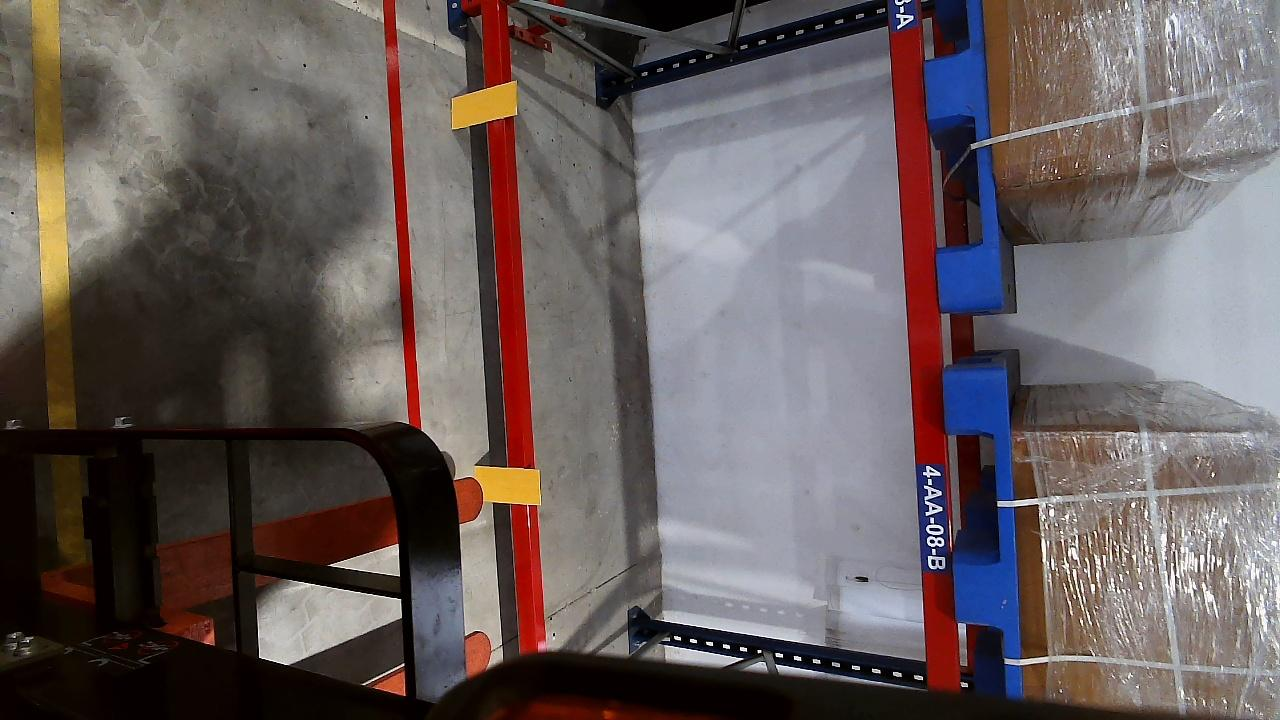h_rack: (886, 0, 954, 690), (483, 16, 547, 652)
orange_strip: (450, 82, 519, 129), (471, 466, 540, 505)
red_line: (380, 0, 421, 434)
small_pallet: (916, 0, 1007, 305), (944, 375, 1026, 690)
yellow_line: (31, 0, 73, 424)
